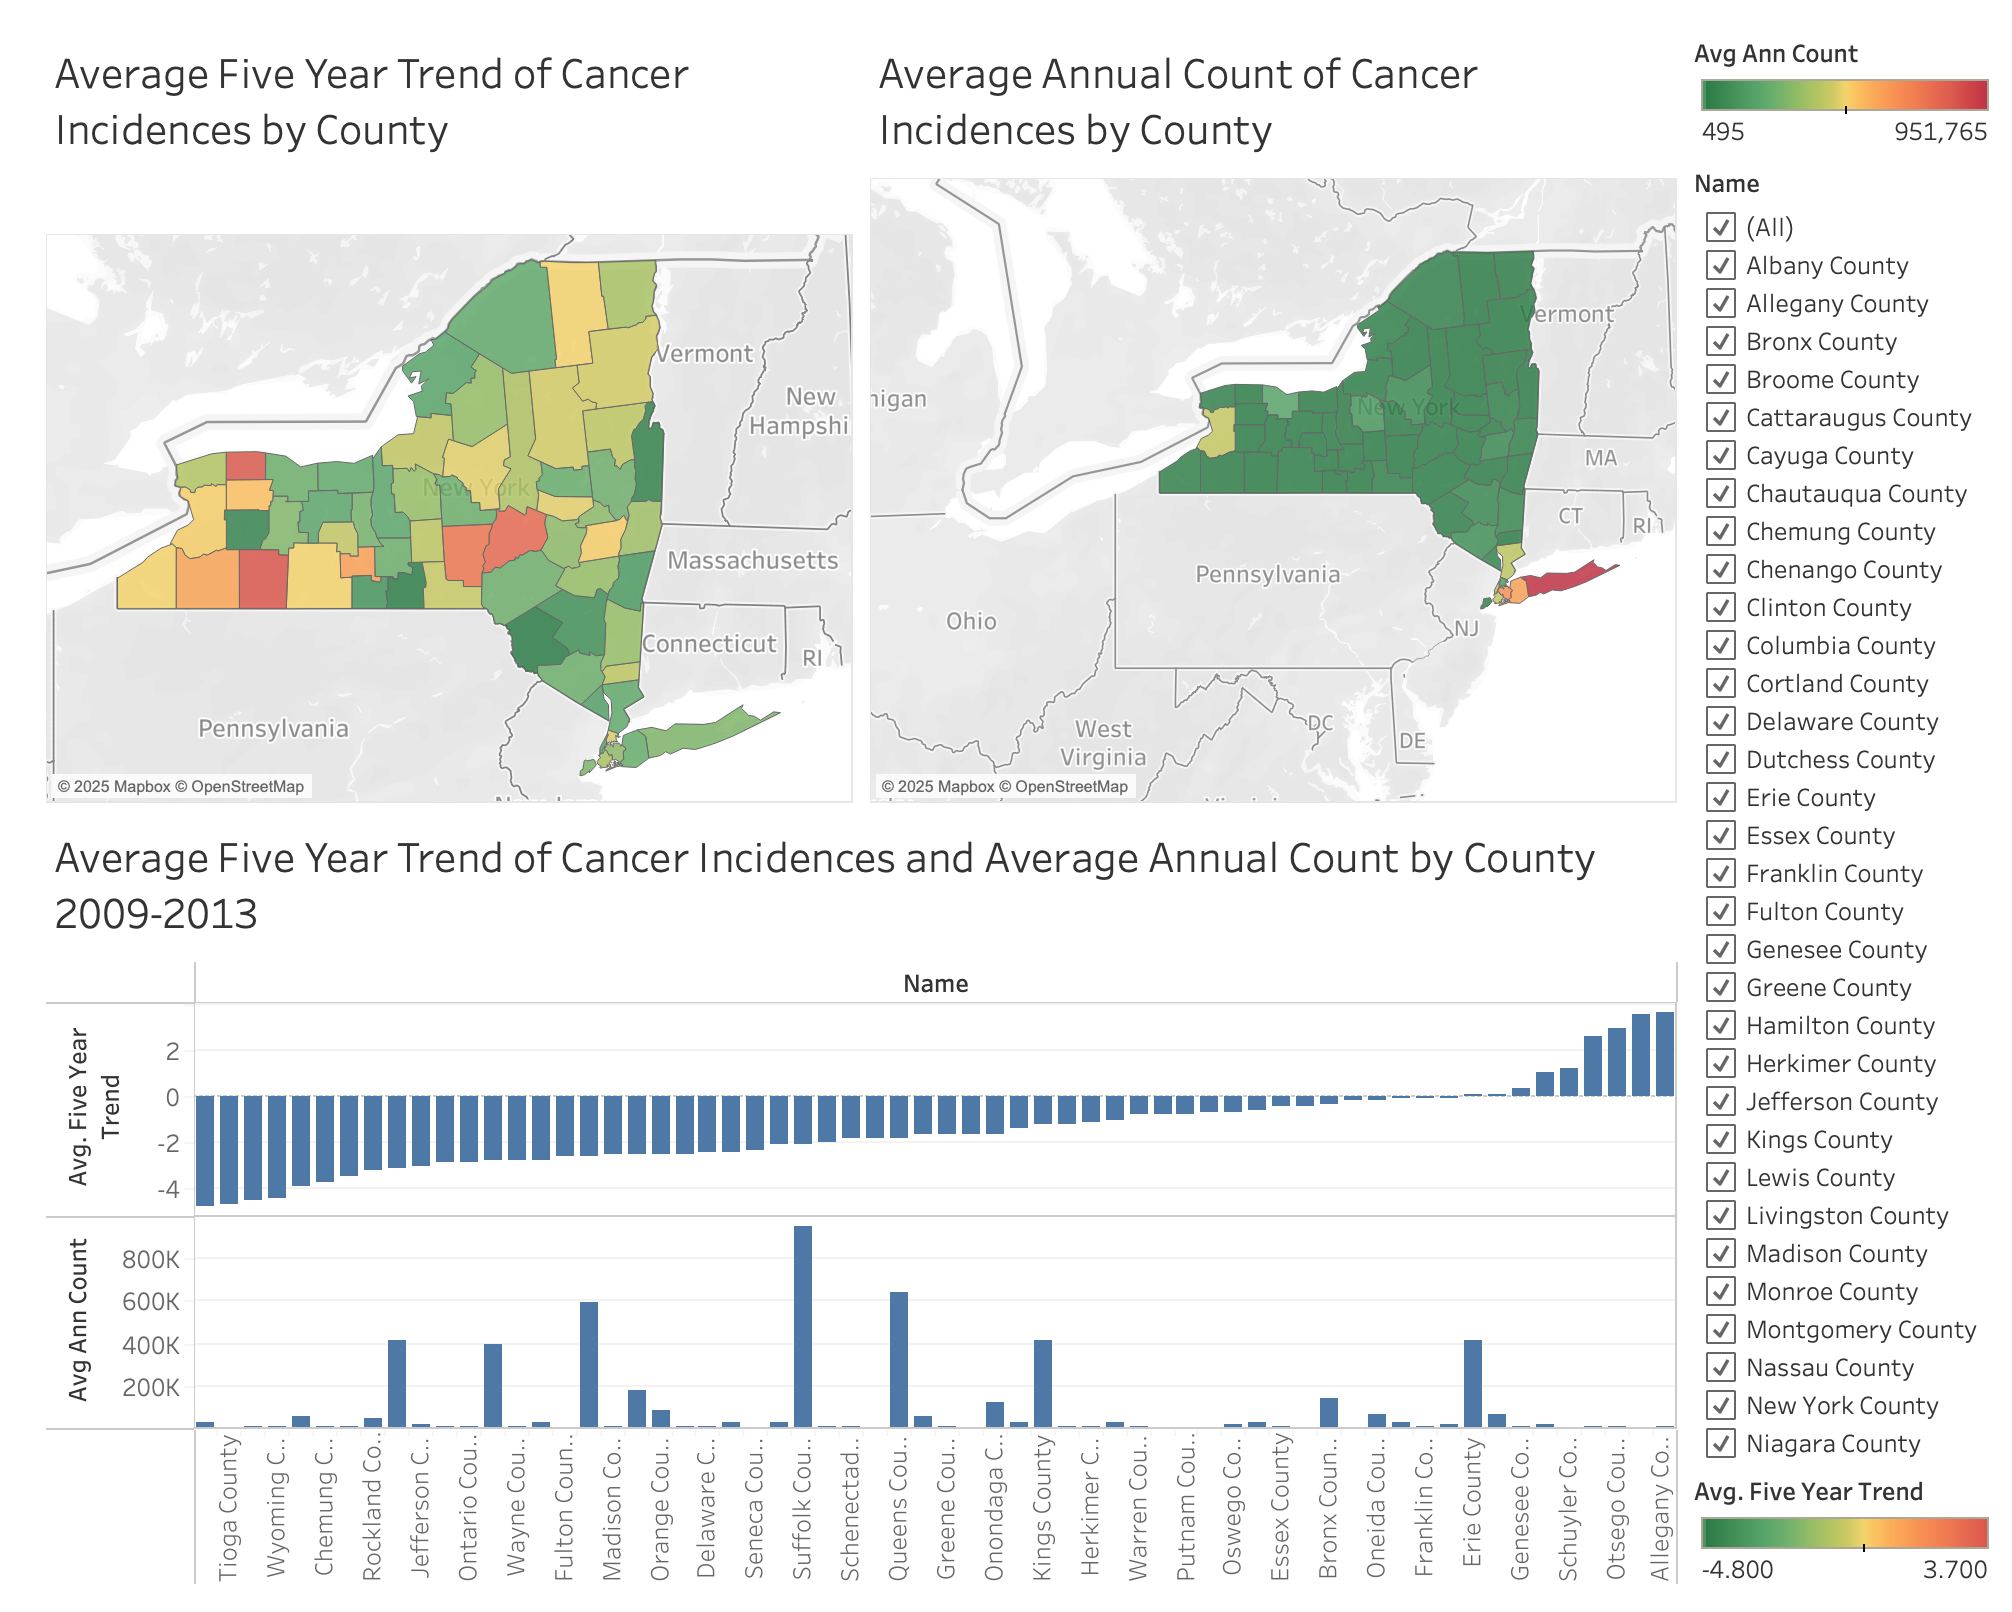

The dashboard page shown, as its layout file describes it:
{"tool":"tableau","page":{"name":"5 Year Trends NY","canvas":[1000,800],"ordinal":0},"visuals":[{"type":"worksheet","title":"Avg Five Year Trend of Cancer Incidences New York State","mark":"Automatic","box":[8,8,412,392]},{"type":"worksheet","title":"Average Annual Count by County","mark":"Automatic","box":[420,8,412,392]},{"type":"legend","title":"Average Annual Count by County","param":"[federated.04o36gq1rfu74516y9lqn1qlyah2].[sum:avgAnnCount:qk]","box":[832,8,160,65]},{"type":"filter","title":"Avg Five Year Trend of Cancer Incidences New York State","param":"[federated.04o36gq1rfu74516y9lqn1qlyah2].[none:Name:nk]","box":[832,73,160,654]},{"type":"worksheet","title":"Avg Five Year Trend of Cancer Incidences by Region (3)","mark":"Automatic","rows":["fiveYearTrend","avgAnnCount"],"cols":["Name"],"box":[8,400,824,392]},{"type":"legend","title":"Avg Five Year Trend of Cancer Incidences New York State","param":"[federated.04o36gq1rfu74516y9lqn1qlyah2].[avg:fiveYearTrend:qk]","box":[832,727,160,65]}]}

Visuals, with their boxes in screenshot pixels (x1, y1, x2, y2), scaled from the page's 1000x800 canvas onto the 2012x1612 screenshot:
"Avg Five Year Trend of Cancer Incidences New York State" worksheet: x1=16, y1=16, x2=845, y2=806
"Average Annual Count by County" worksheet: x1=845, y1=16, x2=1674, y2=806
"Average Annual Count by County" legend: x1=1674, y1=16, x2=1996, y2=147
"Avg Five Year Trend of Cancer Incidences New York State" filter: x1=1674, y1=147, x2=1996, y2=1465
"Avg Five Year Trend of Cancer Incidences by Region (3)" worksheet: x1=16, y1=806, x2=1674, y2=1596
"Avg Five Year Trend of Cancer Incidences New York State" legend: x1=1674, y1=1465, x2=1996, y2=1596
